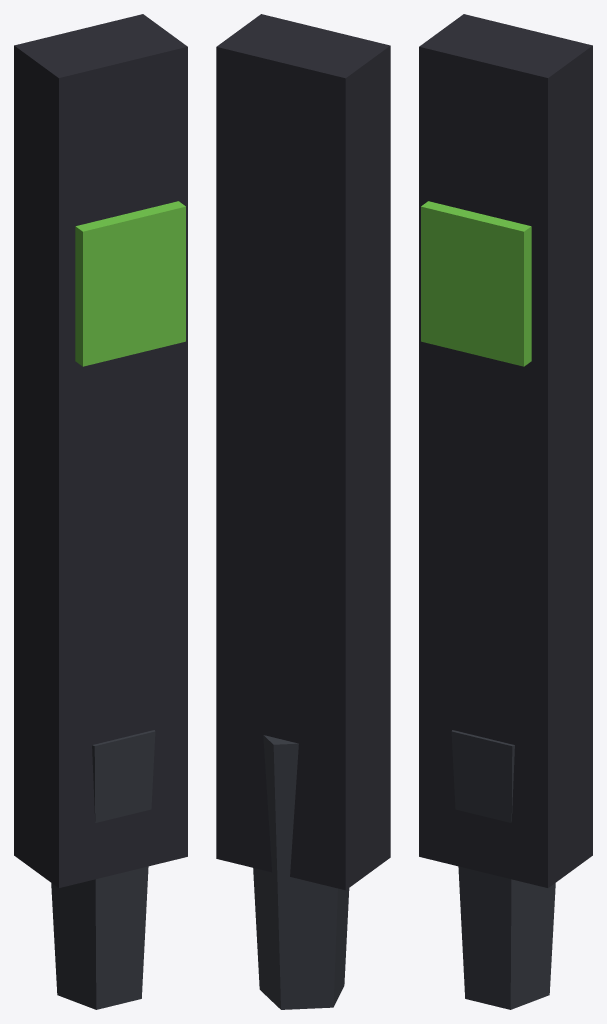
Rendered from hydro_ph_meter.glb.
3 views of the same model, side by side, from view 1: azimuth 30°, elevation 25°; view 2: azimuth 150°, elevation 25°; view 3: azimuth 330°, elevation 25° (orthographic).
Visible parts, largest first — view 1: ph_meter; view 2: ph_meter; view 3: ph_meter.
Boxes of the visible parts, bbox=[...] form: ph_meter: bbox=[14, 14, 187, 1009]; ph_meter: bbox=[216, 14, 390, 1009]; ph_meter: bbox=[419, 14, 592, 1009].
Bounding box in the file's own units: 0.05 × 0.35 × 0.0425.
